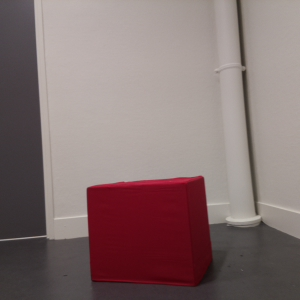medium: (84, 175, 215, 289)
